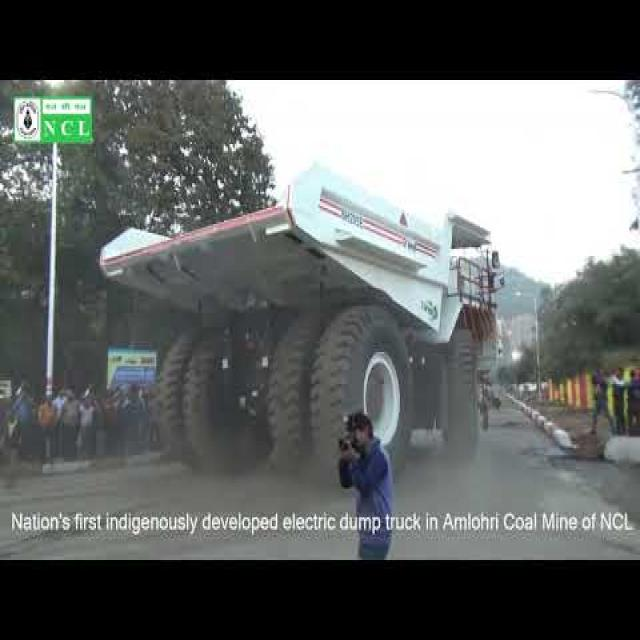truck: (99, 168, 498, 479)
